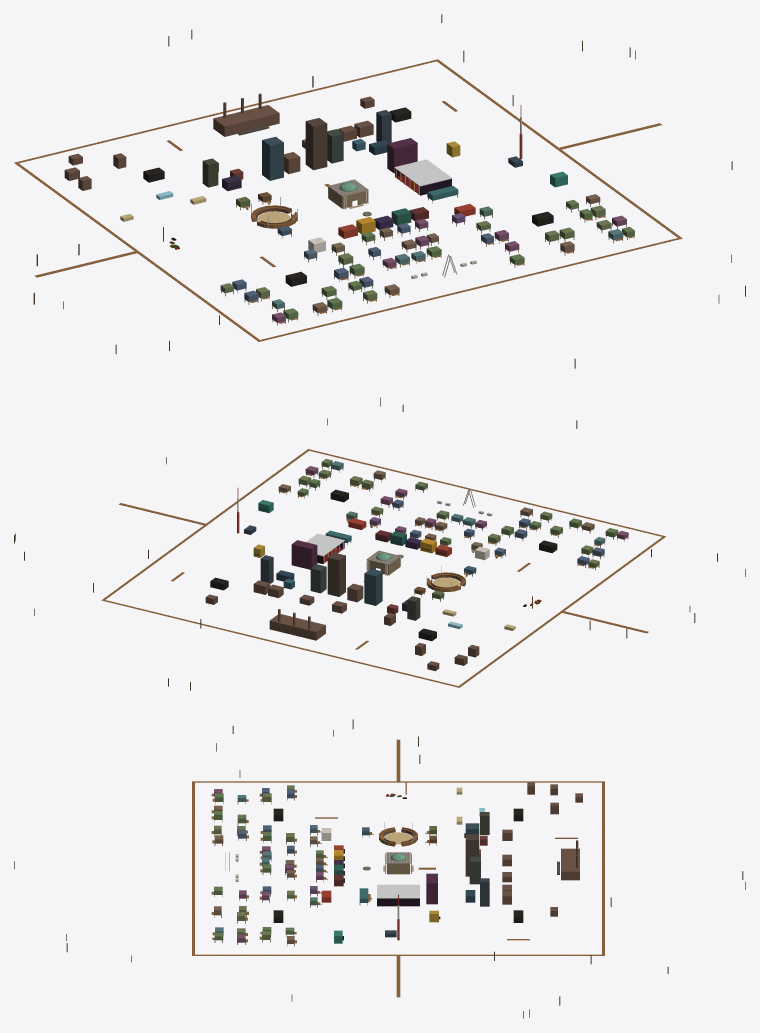
File: city-a.glb
The picture shows the model from 3 angles, top to bottom: view 1: azimuth 30°, elevation 25°; view 2: azimuth 150°, elevation 25°; view 3: azimuth 270°, elevation 25°; orthographic projection. The views are drawn at different scales.
Visible parts, largest first — view 1: city-a; view 2: city-a; view 3: city-a.
Part boxes in pixels (x1=…): city-a: x1=14, y1=14, x2=745, y2=368; city-a: x1=14, y1=397, x2=745, y2=690; city-a: x1=14, y1=719, x2=745, y2=1018.
Bounding box in the file's own units: 713 × 53.1 × 762.
Materials: 70 (70 with a texture image).
